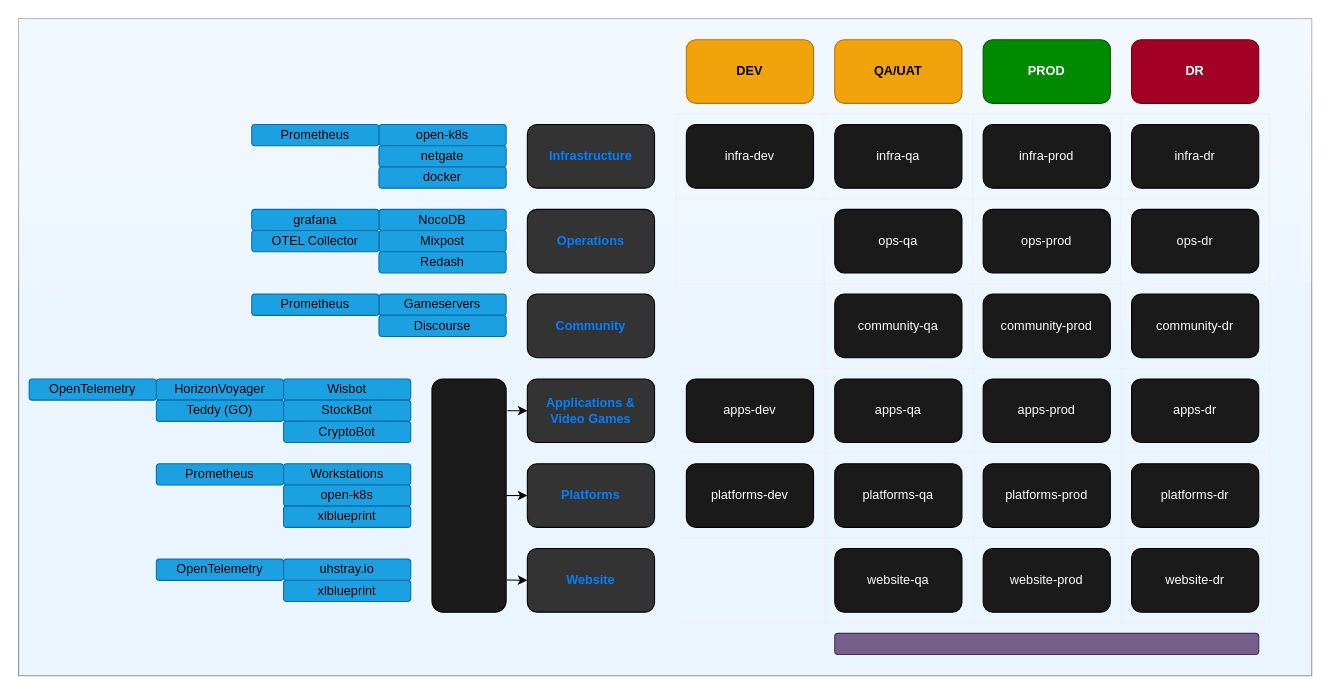
This 1330x694 diagram has some shape labels left out. Each missing label, with the box of its shape:
Github Actions Runner Scope: (834, 632, 1259, 655)
Uhstray.io Developed: (431, 378, 506, 612)
